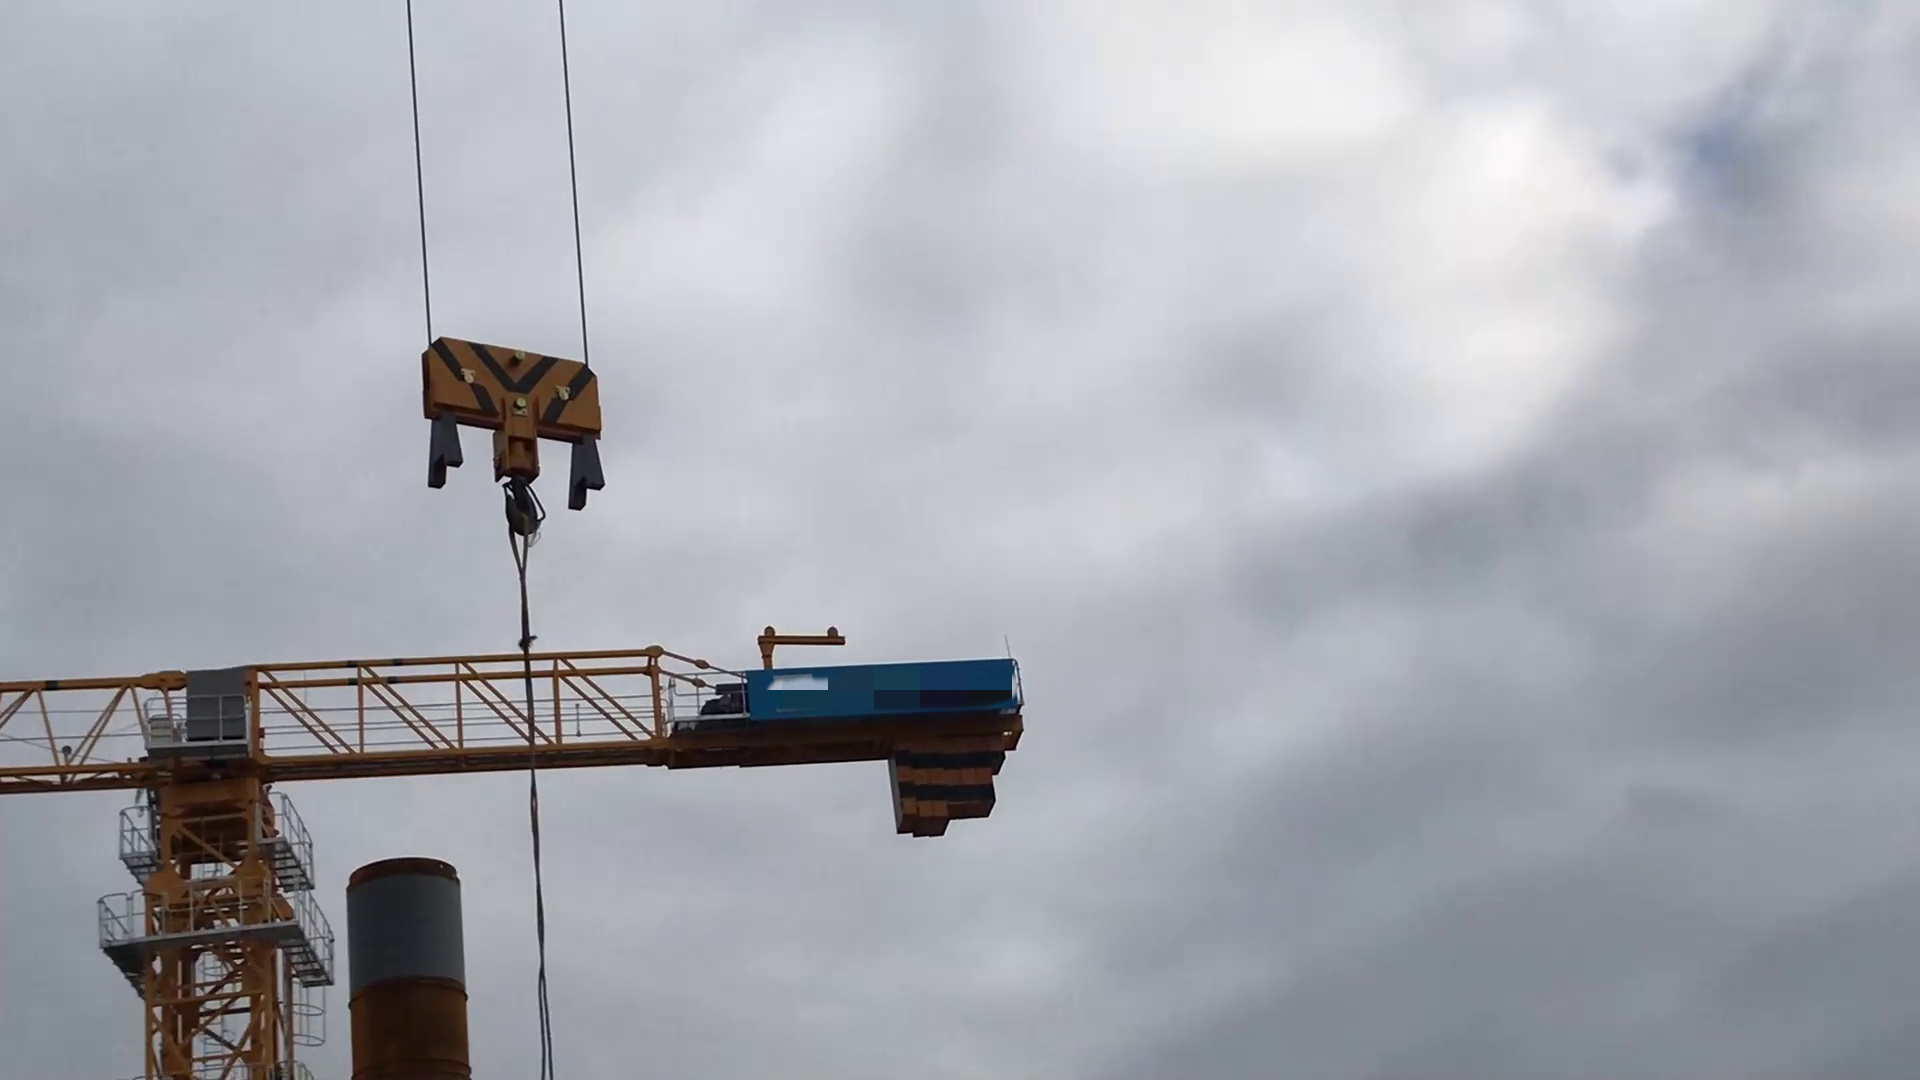hook: (415, 331, 617, 549)
